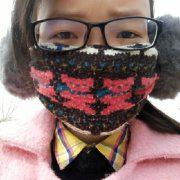OK: (44, 14, 158, 136)
